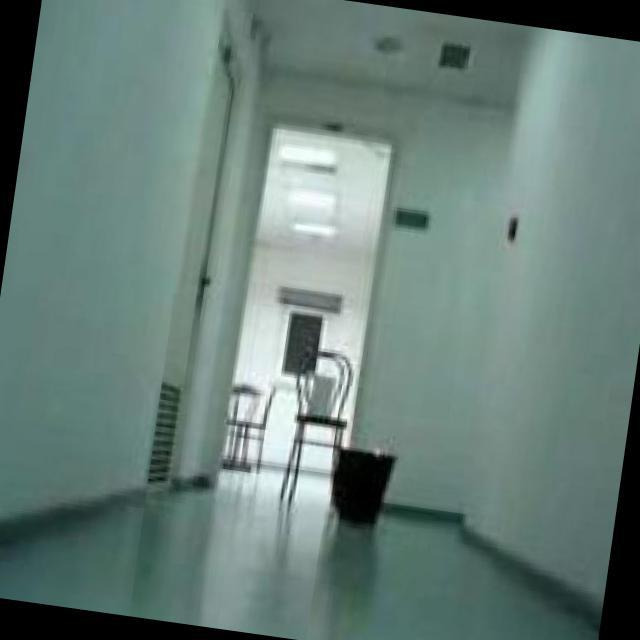Fire: (375, 445, 392, 455)
